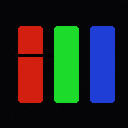3 line_h: (17, 54, 51, 56)
